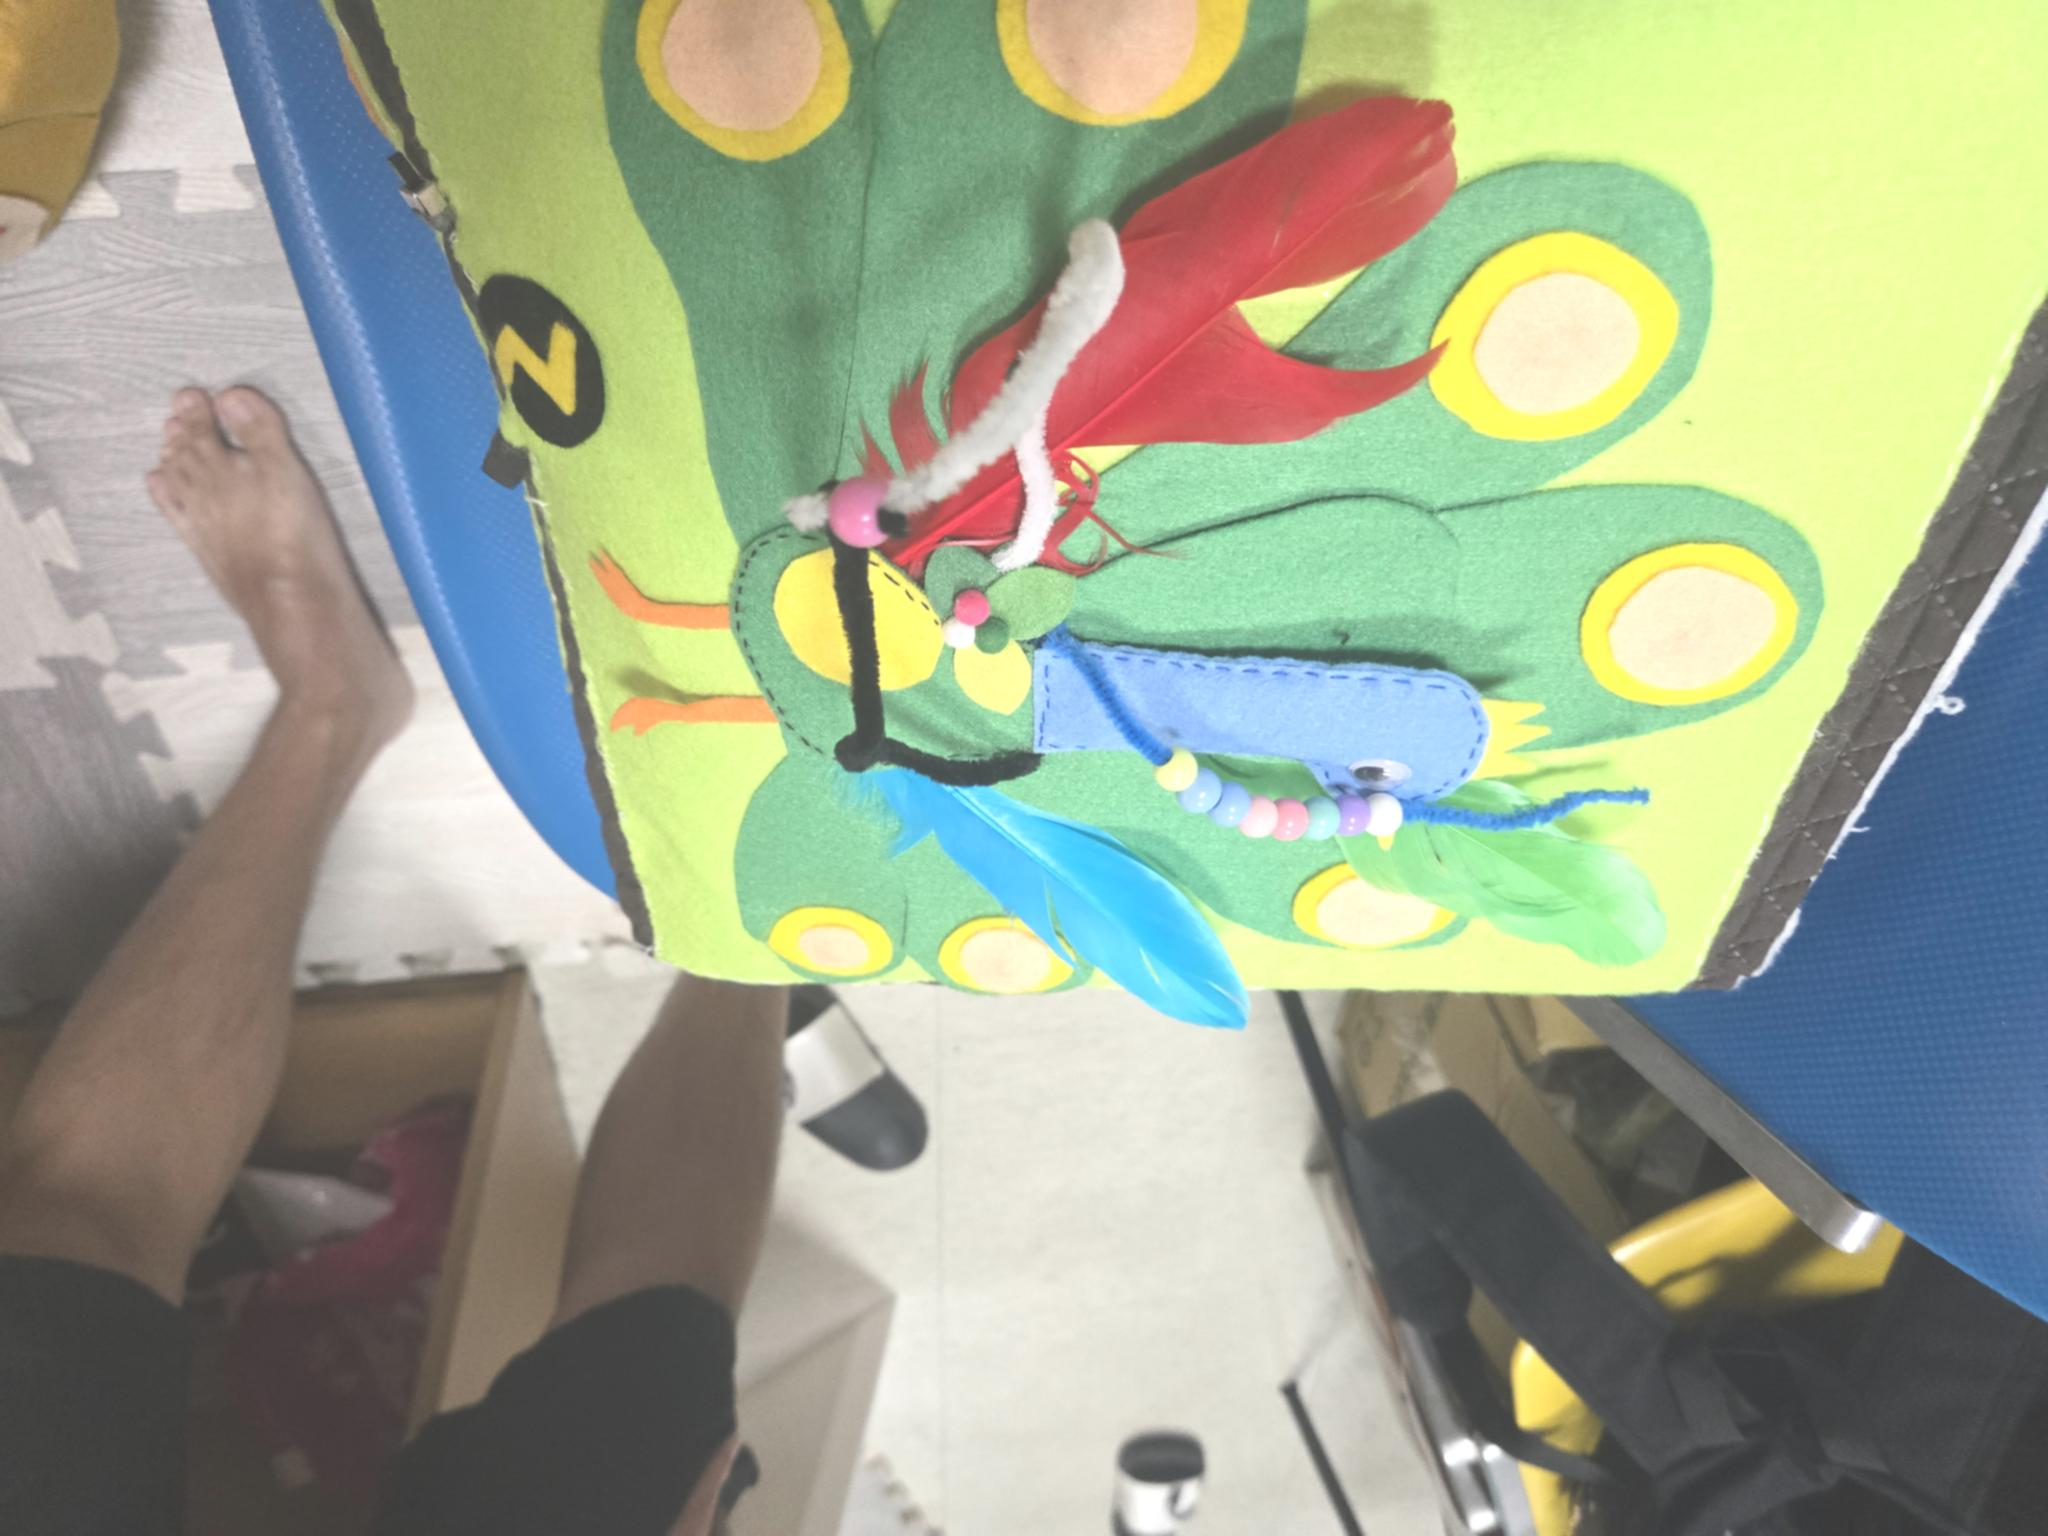bead: (819, 466, 890, 558), (1369, 786, 1414, 852), (1301, 784, 1338, 855), (1272, 792, 1301, 874), (1247, 786, 1277, 849), (1150, 747, 1192, 792), (1332, 794, 1371, 836), (1184, 773, 1219, 813), (1216, 787, 1248, 828)
